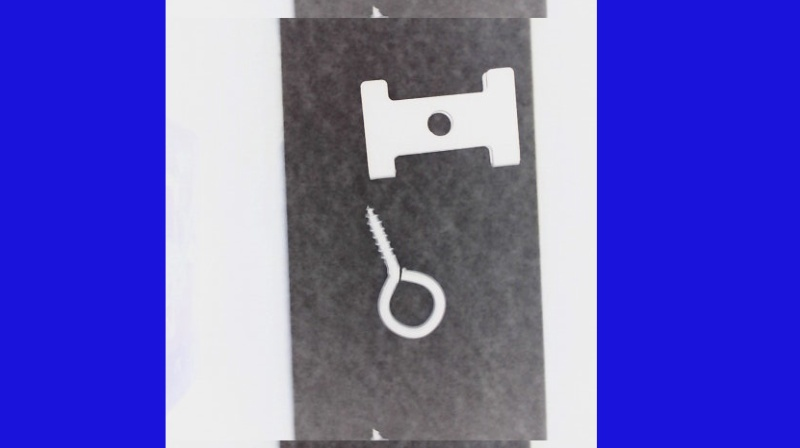O001: (362, 200, 449, 343)
O002: (356, 60, 522, 182)
S001: (365, 424, 456, 447)
